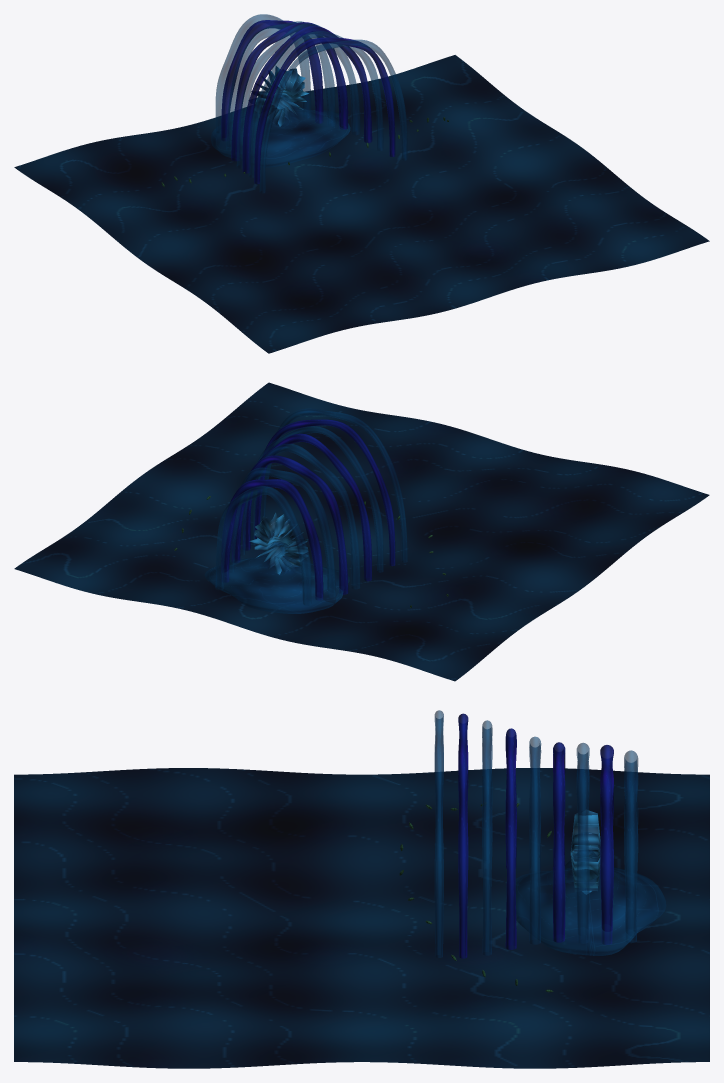
File: focus-memory-chamber-v1.glb
3 renders of one model, top to bottom at view 1: azimuth 30°, elevation 25°; view 2: azimuth 150°, elevation 25°; view 3: azimuth 270°, elevation 25°, orthographic. The views are drawn at different scales.
Visible parts, largest first — view 1: focus-sculpted-floor, focus-memory-cradle, focus-tunnel-ring-4, focus-tunnel-ring-2, focus-tunnel-ring-6, focus-tunnel-ring-1, focus-tunnel-ring-8, focus-tunnel-ring-3, focus-tunnel-ring-5, focus-tunnel-ring-7, focus-cradle-core, focus-tunnel-ring-9; view 2: focus-sculpted-floor, focus-memory-cradle, focus-tunnel-ring-9, focus-tunnel-ring-8, focus-tunnel-ring-6, focus-cradle-core, focus-tunnel-ring-4, focus-tunnel-ring-2, focus-tunnel-ring-7, focus-tunnel-ring-5, focus-tunnel-ring-3, focus-tunnel-ring-1; view 3: focus-sculpted-floor, focus-memory-cradle, focus-tunnel-ring-8, focus-tunnel-ring-9, focus-tunnel-ring-7, focus-tunnel-ring-6, focus-tunnel-ring-5, focus-tunnel-ring-2, focus-tunnel-ring-4, focus-tunnel-ring-3, focus-tunnel-ring-1, focus-cradle-core.
Part boxes in pixels (box(x1,y1,x2,y2)): focus-sculpted-floor: box(14, 55, 709, 353); focus-memory-cradle: box(211, 94, 350, 167); focus-tunnel-ring-4: box(242, 26, 372, 173); focus-tunnel-ring-2: box(254, 37, 395, 184); focus-tunnel-ring-6: box(231, 22, 348, 161); focus-tunnel-ring-1: box(259, 39, 407, 193); focus-tunnel-ring-8: box(221, 20, 323, 141); focus-tunnel-ring-3: box(248, 31, 383, 177); focus-tunnel-ring-5: box(236, 23, 360, 168); focus-tunnel-ring-7: box(226, 21, 335, 150); focus-cradle-core: box(248, 66, 308, 126); focus-tunnel-ring-9: box(215, 14, 311, 133); focus-sculpted-floor: box(14, 382, 709, 681); focus-memory-cradle: box(204, 542, 349, 613); focus-tunnel-ring-9: box(215, 486, 311, 605); focus-tunnel-ring-8: box(221, 479, 323, 600); focus-tunnel-ring-6: box(231, 455, 348, 594); focus-cradle-core: box(249, 512, 308, 574); focus-tunnel-ring-4: box(242, 433, 371, 581); focus-tunnel-ring-2: box(254, 419, 395, 566); focus-tunnel-ring-7: box(229, 467, 335, 597); focus-tunnel-ring-5: box(240, 443, 360, 588); focus-tunnel-ring-3: box(250, 426, 383, 572); focus-tunnel-ring-1: box(260, 408, 407, 562); focus-sculpted-floor: box(14, 768, 709, 1068); focus-memory-cradle: box(515, 850, 666, 955); focus-tunnel-ring-8: box(600, 745, 613, 944); focus-tunnel-ring-9: box(624, 750, 638, 942); focus-tunnel-ring-7: box(576, 743, 589, 943); focus-tunnel-ring-6: box(553, 742, 565, 942); focus-tunnel-ring-5: box(529, 736, 541, 944); focus-tunnel-ring-2: box(458, 713, 468, 958); focus-tunnel-ring-4: box(505, 728, 516, 949); focus-tunnel-ring-3: box(482, 720, 492, 955); focus-tunnel-ring-1: box(434, 710, 443, 957); focus-cradle-core: box(570, 809, 600, 894).
Bounding box in the file's own units: 18 × 6.25 × 18.
5 materials, 5 textured.
